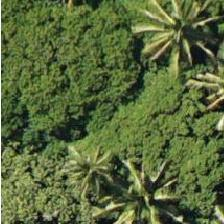coconut_tree: (34, 132, 124, 222), (88, 147, 178, 223), (121, 0, 211, 71), (175, 30, 223, 120)
